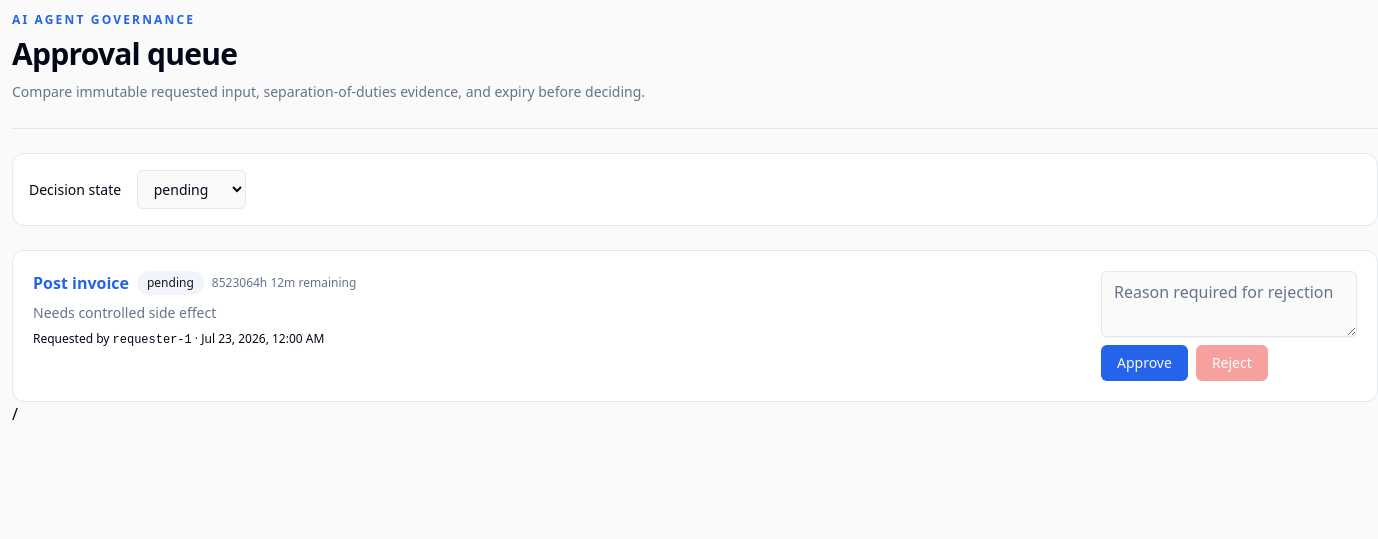
ApprovalQueuePage › restores optimistically removed rows and shows mutation errors when approval fails
The width and height of the screenshot is (1378, 539).
Expected: the link "Post invoice" is shown, [33,271,129,295]
Click the button "Approve" at x=1144, y=363, box [1101,345,1188,381]
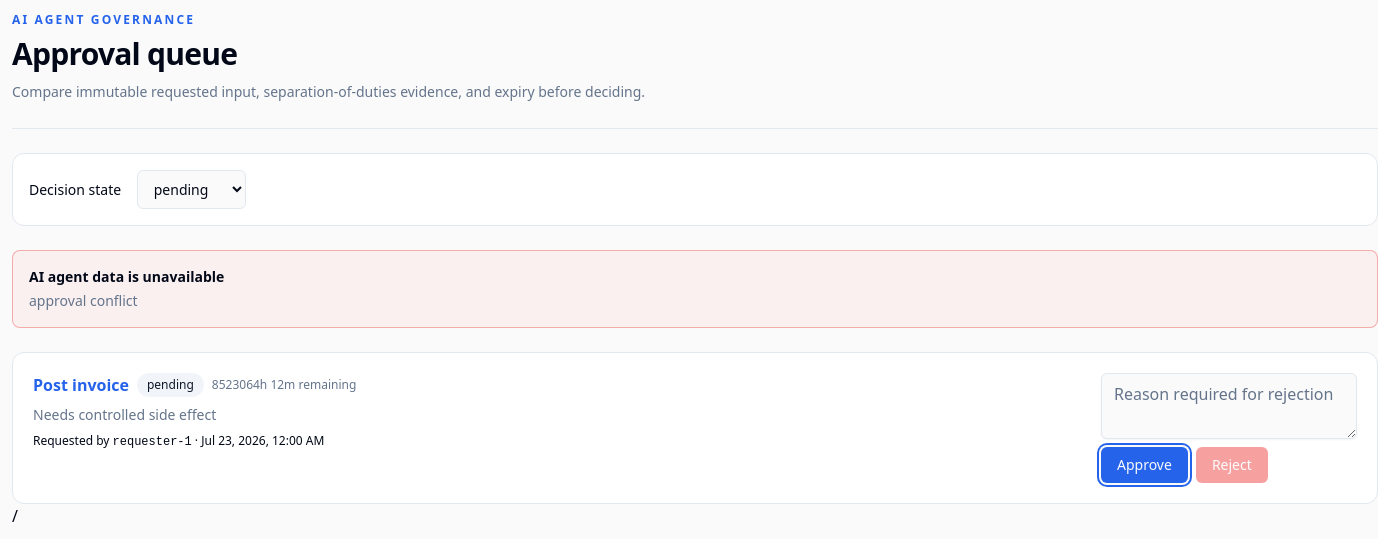
Expected: the link "Post invoice" is shown, [33,373,129,397]
Result: the message shows "approval conflict" at [29,291,138,310]
